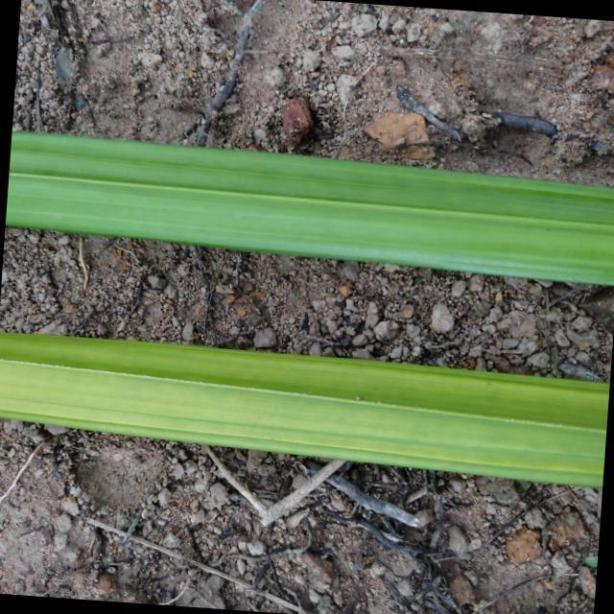nitrogen: (1, 323, 614, 479)
